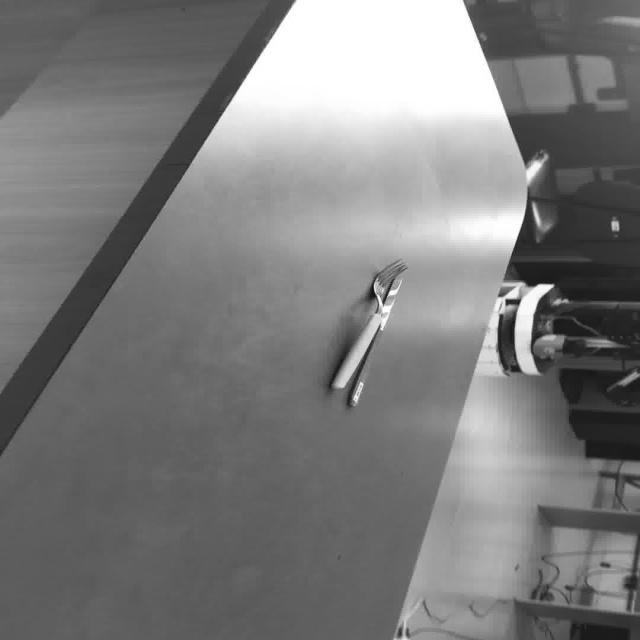fork: (343, 258, 408, 406)
knife fork: (328, 258, 408, 406)
